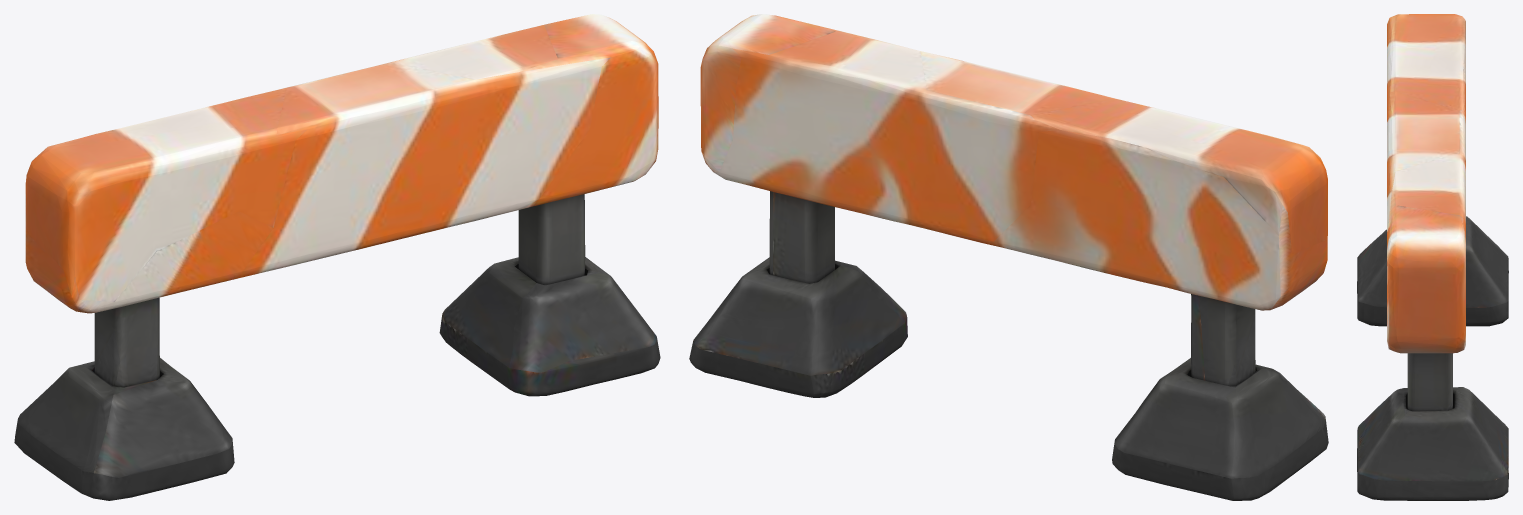
Rendered from roadblock.glb.
The picture shows the model from 3 angles, left to right: view 1: azimuth 30°, elevation 25°; view 2: azimuth 150°, elevation 25°; view 3: azimuth 270°, elevation 25°; orthographic projection. The views are drawn at different scales.
Parts seen in each view (by area): view 1: model; view 2: model; view 3: model.
Boxes of the visible parts, x1,y1,x2,y2 form: model: (14,14,660,500); model: (689,14,1328,500); model: (1357,14,1508,500).
Bounding box in the file's own units: 2.2 × 1.11 × 0.5843.
Materials: 1 (1 with a texture image).
